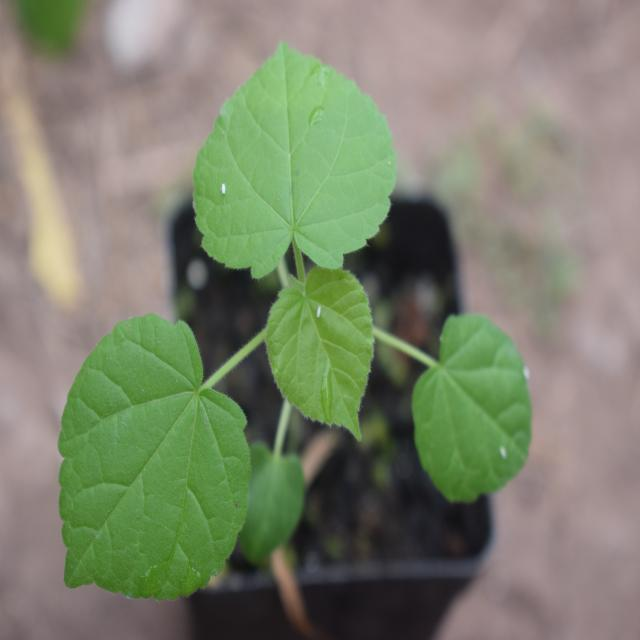abutilon theophrasti: (56, 26, 524, 608)
